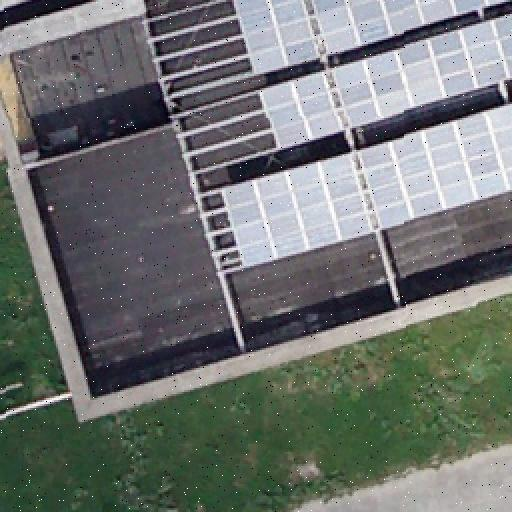solar-panel: (257, 14, 511, 150), (358, 105, 512, 231), (224, 151, 376, 265), (312, 0, 512, 56), (234, 0, 322, 76)
